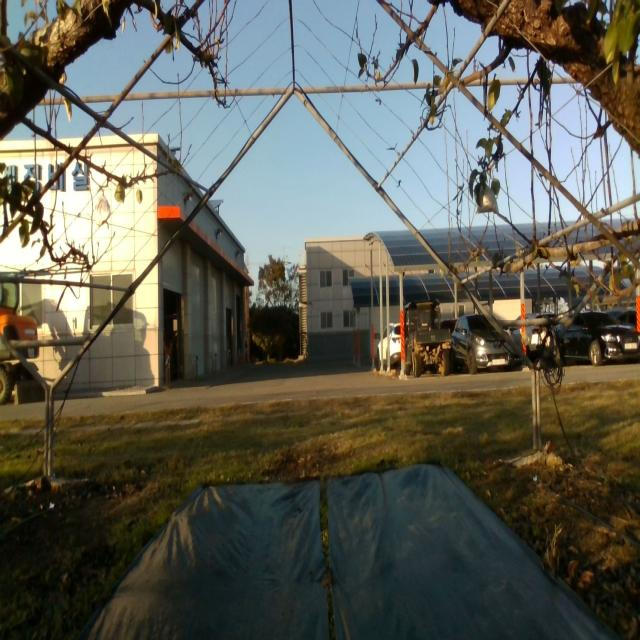pearbags: (474, 184, 500, 217), (94, 194, 111, 226)
